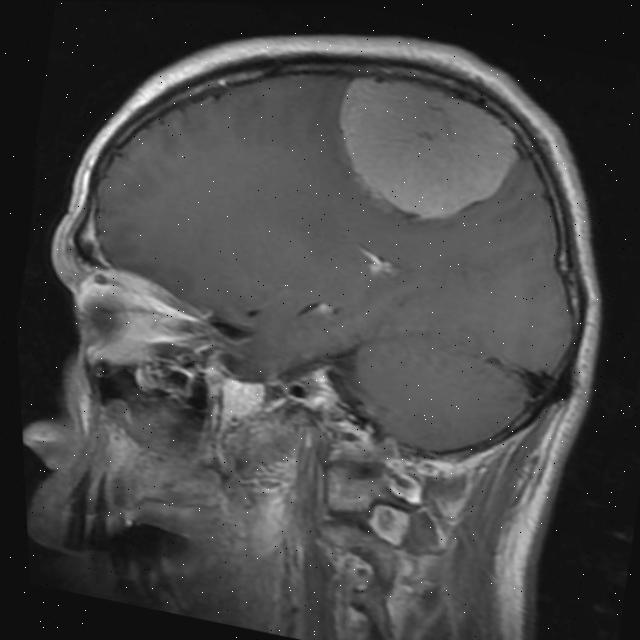Meningioma: (318, 66, 537, 238)
